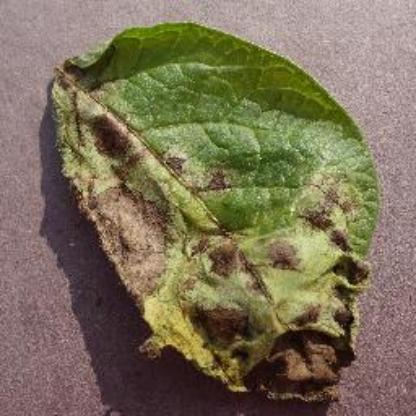Late-Blight: (41, 23, 365, 407)
